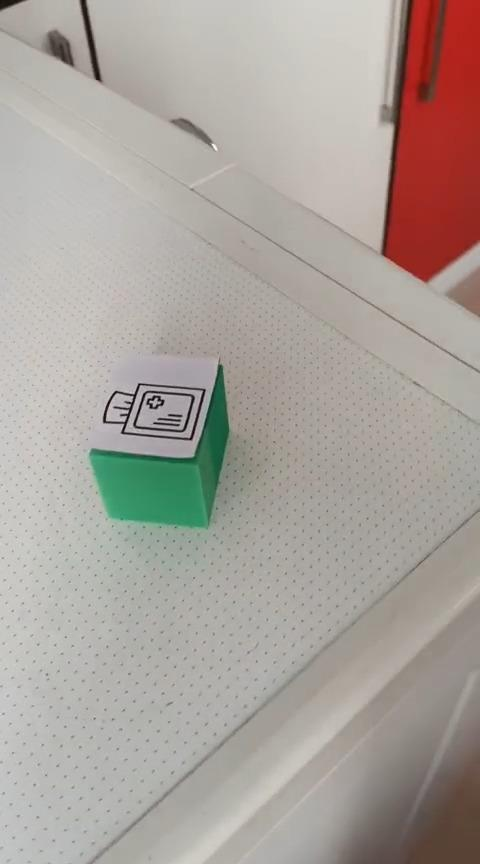Gauze: (87, 351, 230, 529)
